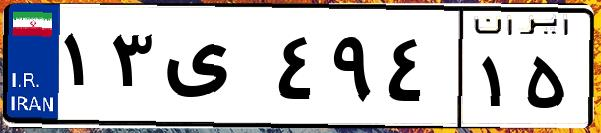1: (57, 26, 110, 100), (475, 38, 525, 113)
3: (110, 28, 158, 98)
4: (270, 28, 330, 110), (385, 28, 445, 110)
5: (525, 38, 570, 115)
9: (330, 28, 385, 110)
ی: (158, 20, 270, 120)
